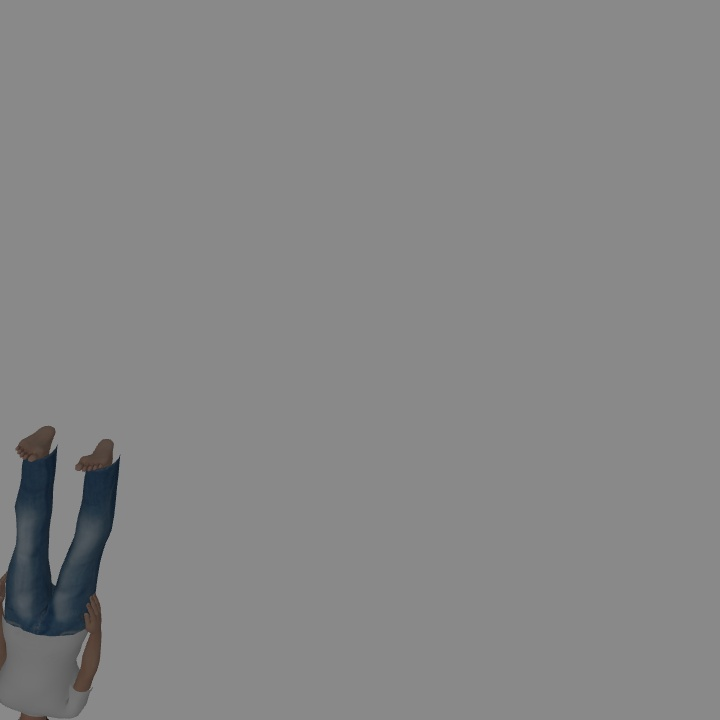victim: (7, 425, 114, 707)
